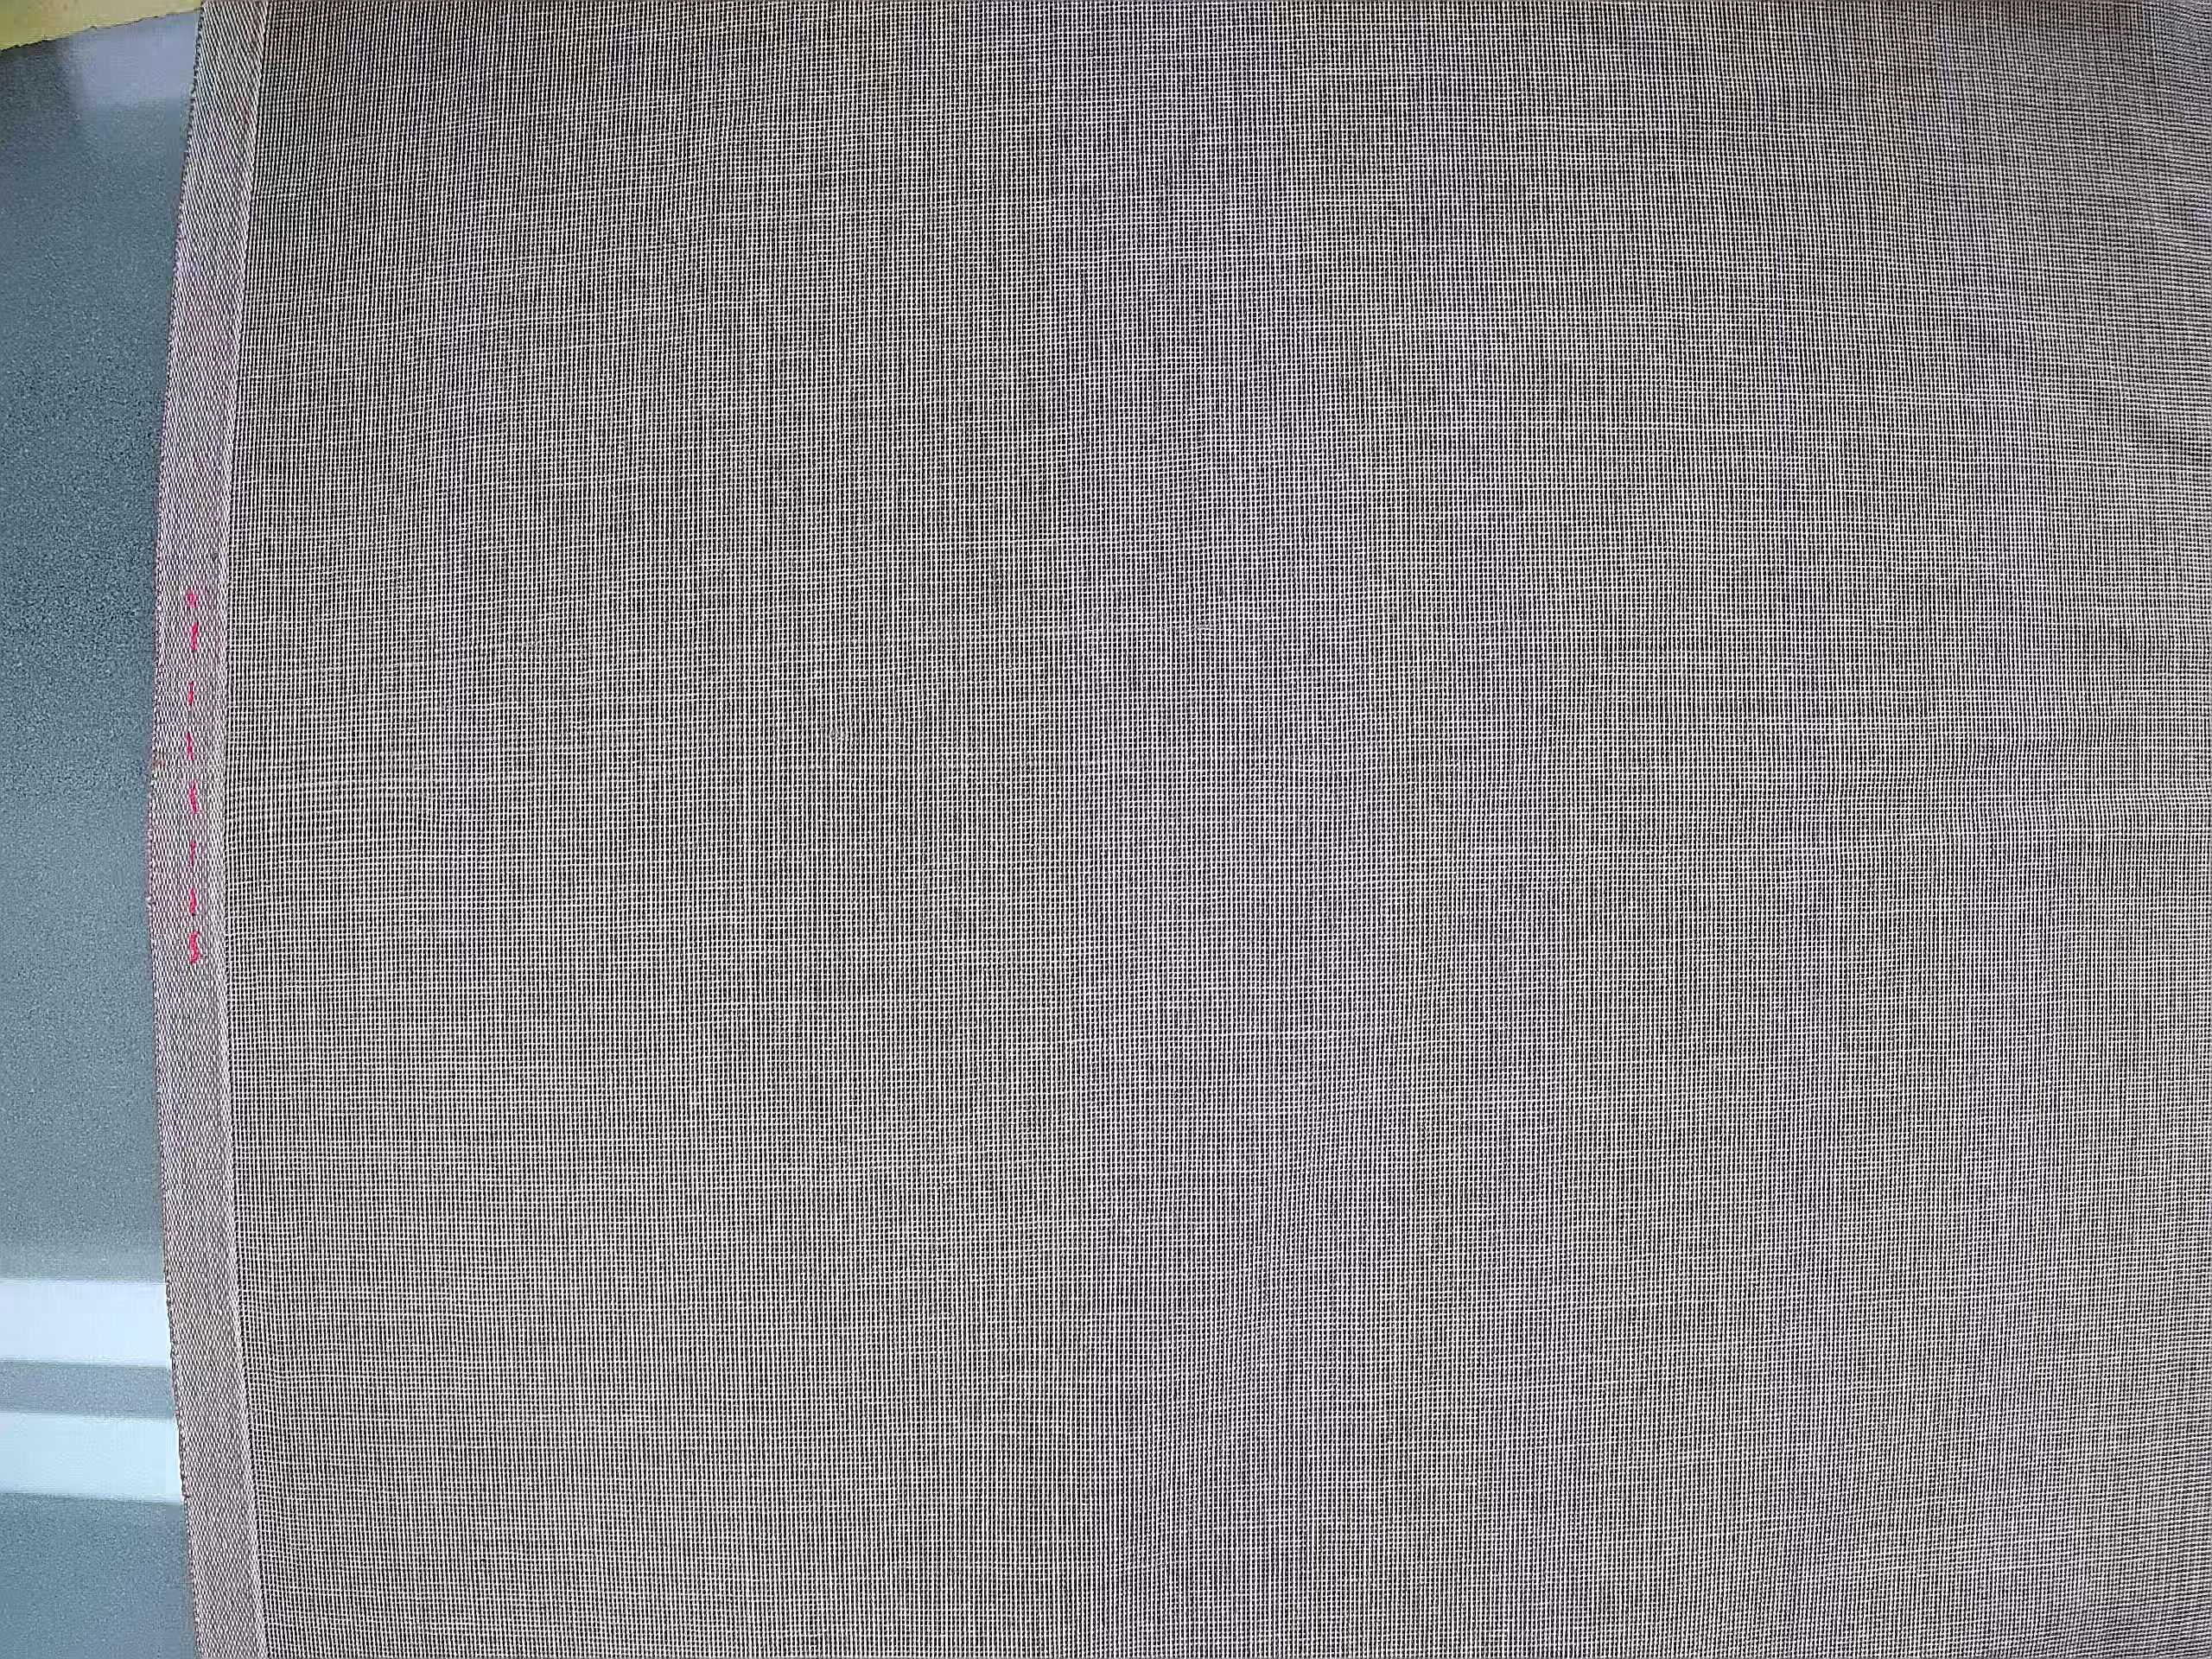others: (237, 746, 1343, 802)
